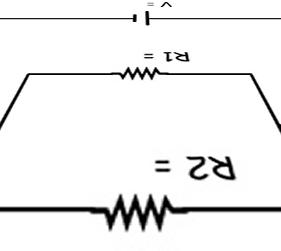resistor: (93, 189, 179, 238), (111, 58, 165, 81)
